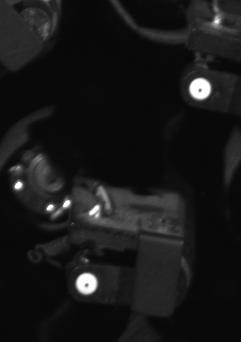fiber: (72, 268, 104, 300), (187, 74, 215, 103)
